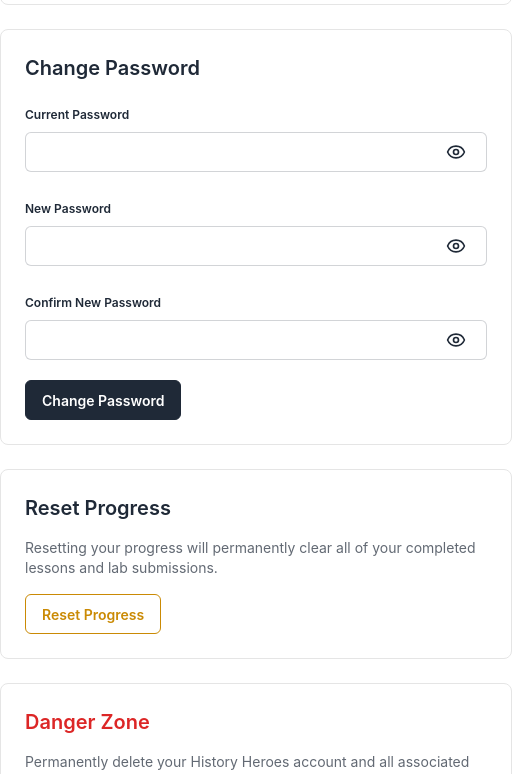
Test: ProfilePage › Change Password form › validates required fields, password length, and password match
(page scrolled)
Empty submission
Click the button "Change Password".
click(103, 400)  # box [25,380,181,420]
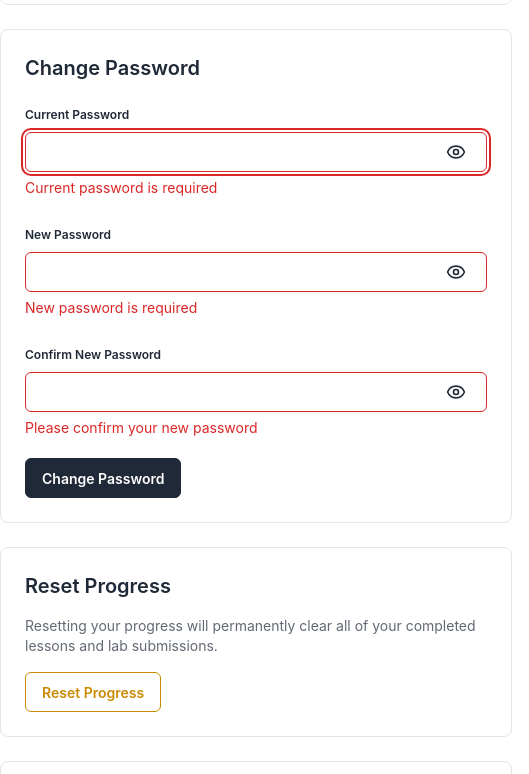
Expected: the text "Current password is required" is shown, [25,179,217,196]
Expected: the text "New password is required" is shown, [25,299,197,316]
Expected: the text "Please confirm your new password" is shown, [25,419,258,436]
Type "currentpass" into the password field labelled "Current Password".
click(256, 152); type("currentpass")  # box [25,132,487,172]
Type "short" into the password field labelled "New Password".
click(256, 272); type("short")  # box [25,252,487,292]
Type "short" into the password field labelled "Confirm New Password".
click(256, 392); type("short")  # box [25,372,487,412]
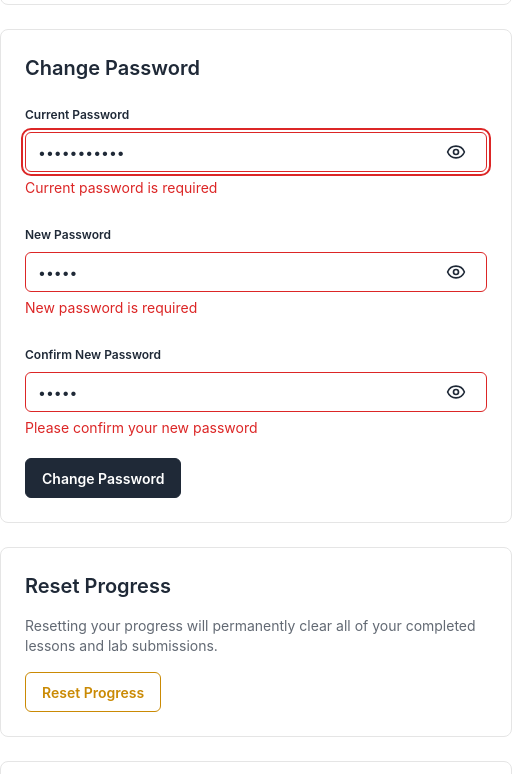
Click the button "Change Password".
click(103, 478)  # box [25,458,181,498]
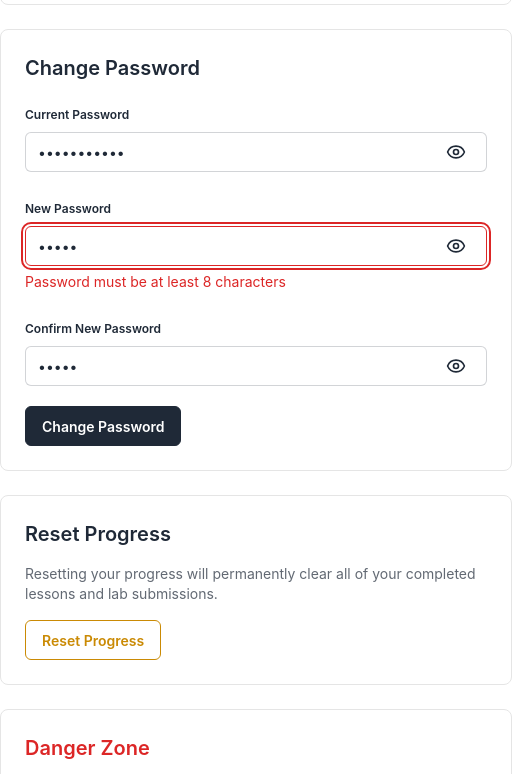
Expected: the text "Password must be at least 8 characters" is shown, [25,273,286,290]
Passwords do not match validation
Type "validPassword123" into the password field labelled "New Password".
click(256, 246); type("validPassword123")  # box [25,226,487,266]
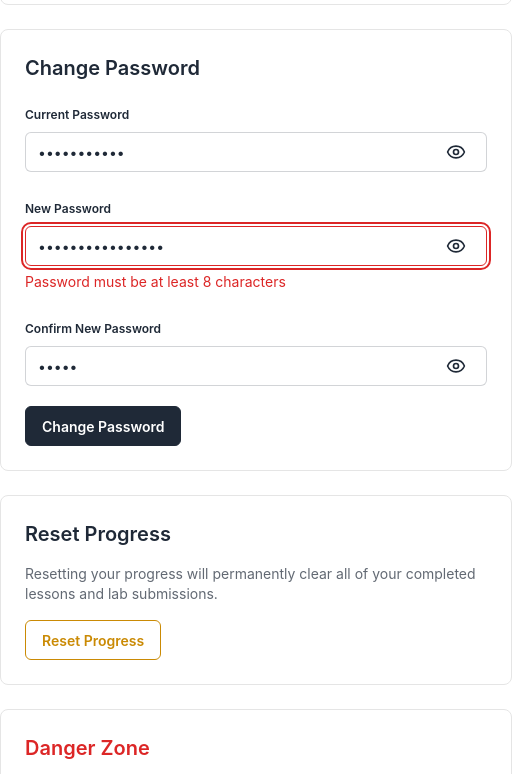
Type "mismatchPassword456" into the password field labelled "Confirm New Password".
click(256, 366); type("mismatchPassword456")  # box [25,346,487,386]
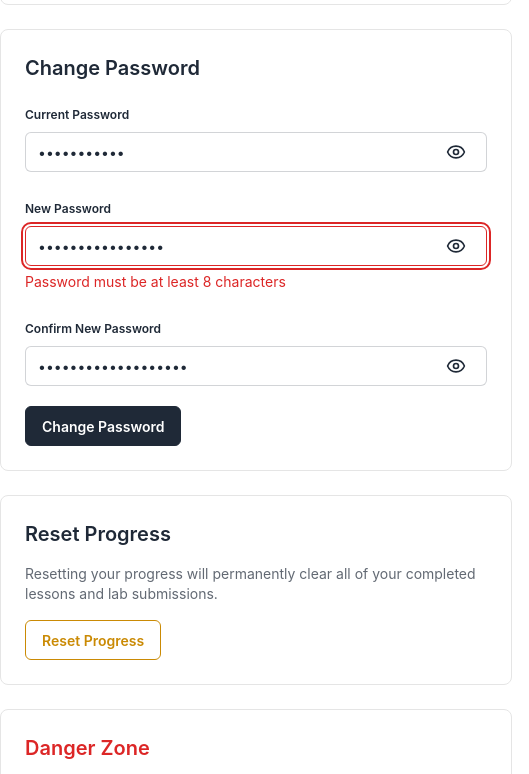
Click the button "Change Password".
click(103, 426)  # box [25,406,181,446]
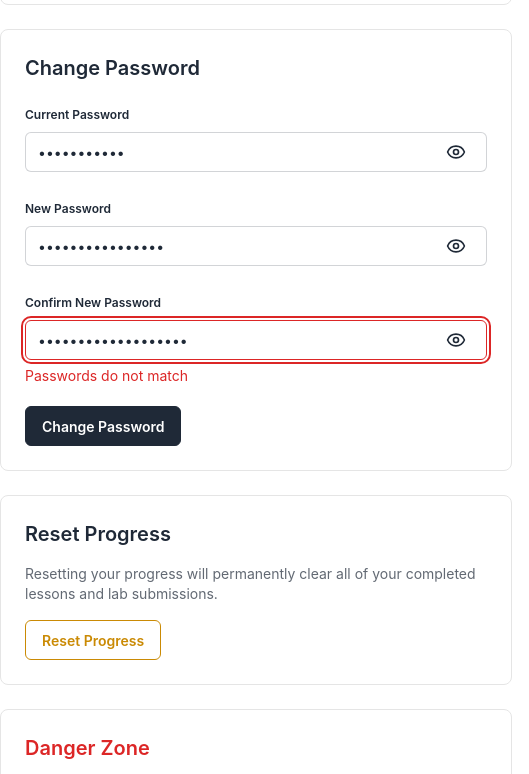
Expected: the text "Passwords do not match" is shown, [25,367,188,384]
